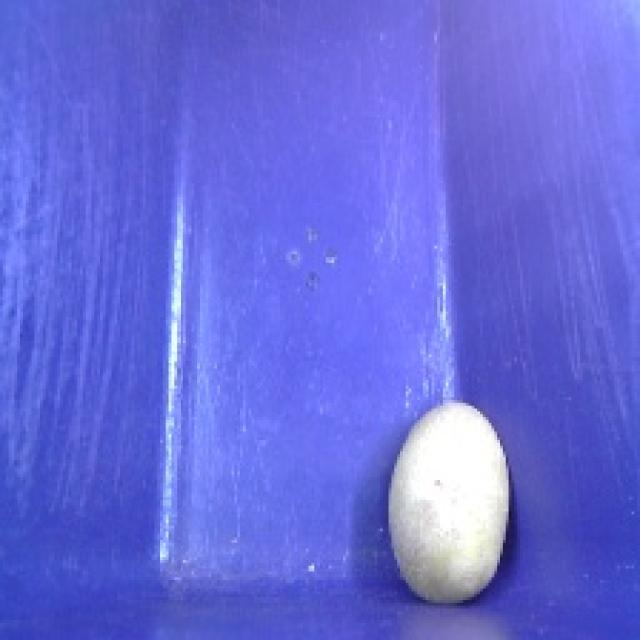potato: (370, 391, 533, 616)
